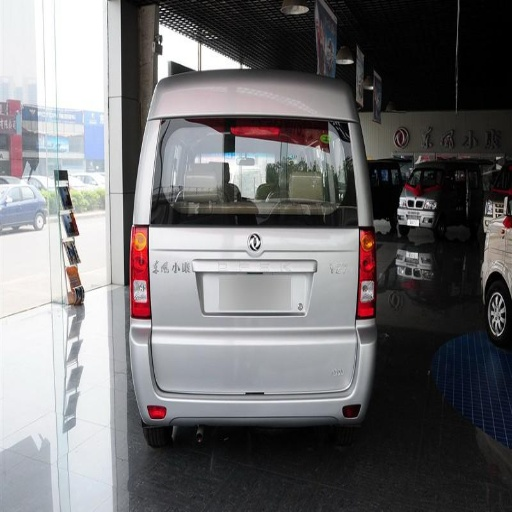back_bumper: (129, 318, 373, 428)
